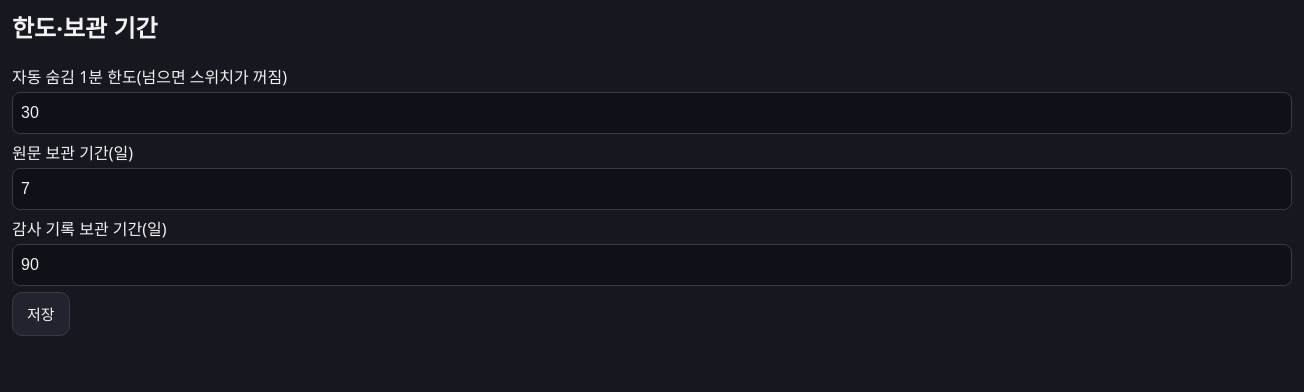
Test: LimitsSection 검증 › 값이 1.5이면 보내지 않고 항목 이름과 범위를 알린다(소수)
Replace the text in the number field labelled "원문 보관 기간(일)" with "1.5" at (652, 189), box 12,168 -> 1292,210
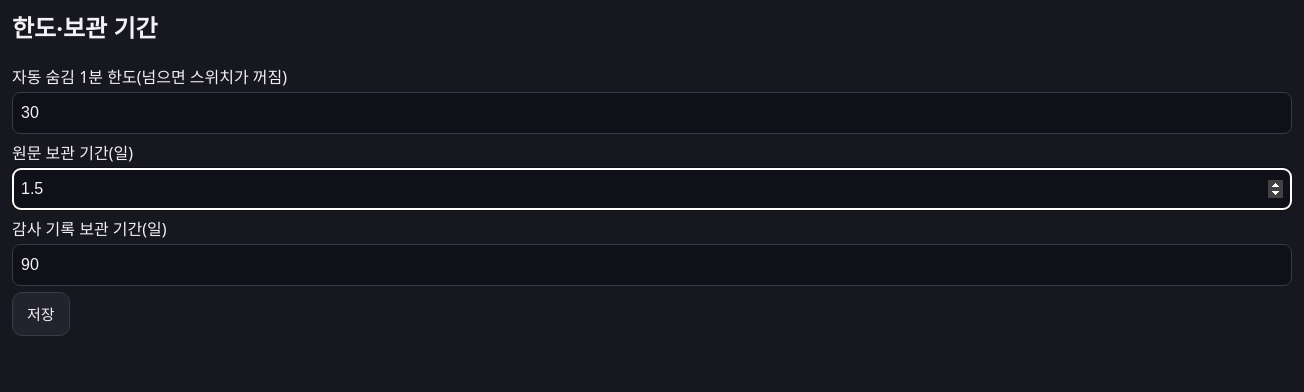
Click the button "저장" at (41, 314), box 12,292 -> 70,336
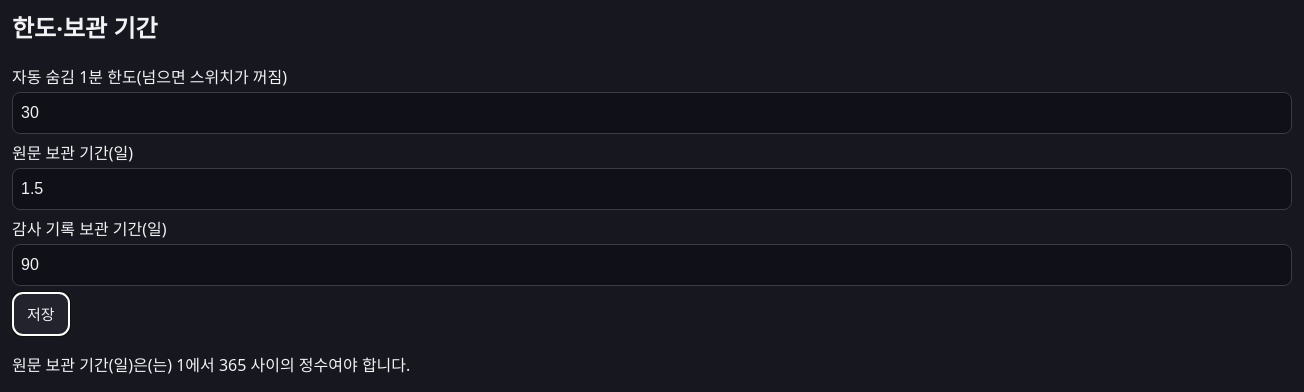
Expected: the message shows "원문 보관 기간(일)은(는) 1에서 365 사이의 정수", 12,354 -> 410,376
